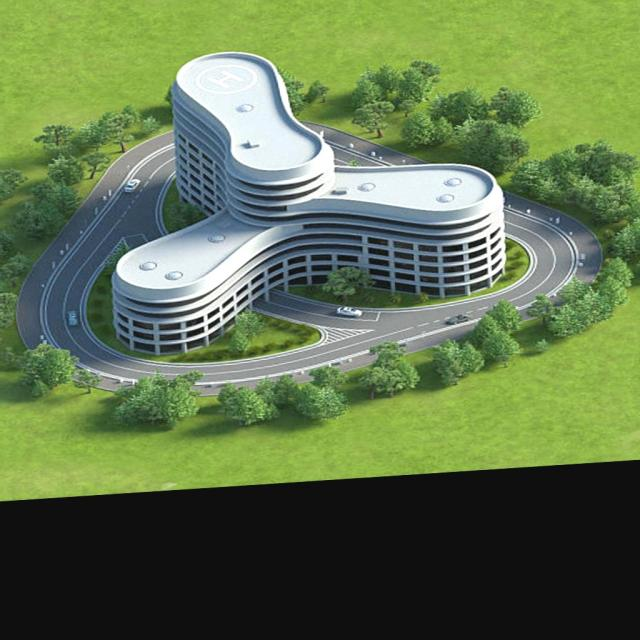helipad: (191, 62, 259, 95)
